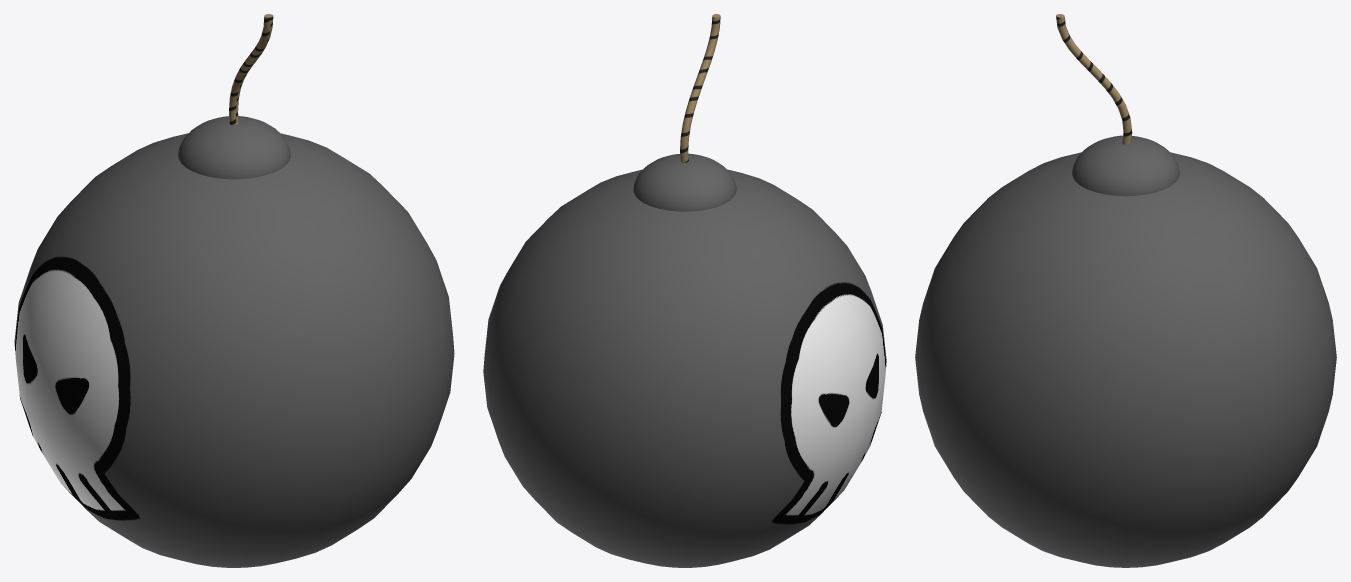
Rendered from bomb.fbx.
The picture shows the model from 3 angles, left to right: view 1: azimuth 30°, elevation 25°; view 2: azimuth 150°, elevation 25°; view 3: azimuth 270°, elevation 25°; orthographic projection. The views are drawn at different scales.
Visible parts, largest first — view 1: Sphere, Sphere.001, BezierCurve; view 2: Sphere, Sphere.001, BezierCurve; view 3: Sphere, Sphere.001, BezierCurve.
Part boxes in pixels (bbox=[...]): Sphere: bbox=[14, 133, 454, 567]; Sphere.001: bbox=[178, 116, 290, 179]; BezierCurve: bbox=[229, 14, 273, 125]; Sphere: bbox=[483, 169, 886, 567]; Sphere.001: bbox=[633, 153, 736, 211]; BezierCurve: bbox=[680, 14, 720, 162]; Sphere: bbox=[915, 152, 1336, 567]; Sphere.001: bbox=[1072, 135, 1179, 196]; BezierCurve: bbox=[1056, 14, 1132, 144].
Size of the model in its own units: 4.28 by 5.96 by 4.28.
Materials: 1 (1 with a texture image).
